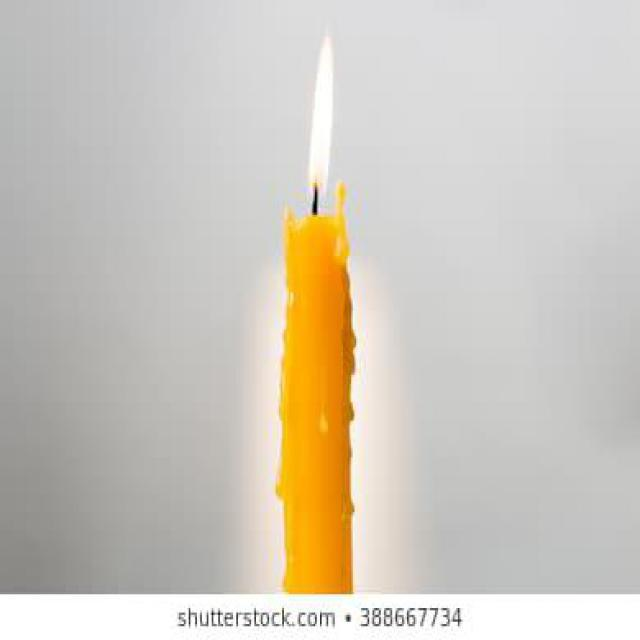Fire: (307, 34, 335, 197)
